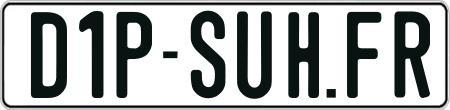1: (79, 11, 104, 100)
D: (31, 12, 73, 99)
F: (347, 12, 386, 103)
H: (287, 10, 321, 99)
P: (115, 12, 154, 102)
R: (395, 12, 433, 100)
S: (190, 10, 228, 101)
U: (235, 11, 276, 102)
